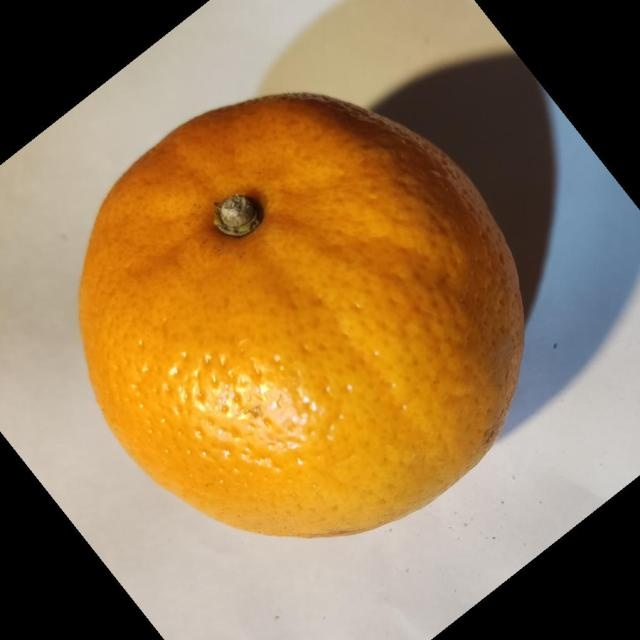agrume: (76, 90, 526, 539)
